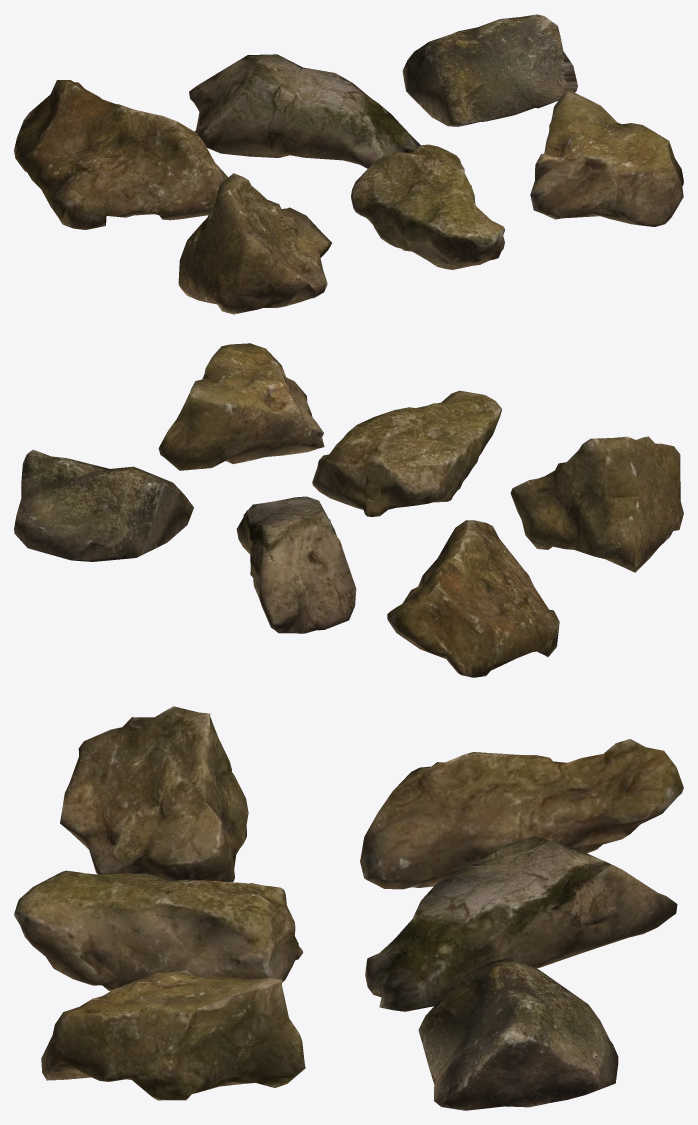
Rendered from rockset1.glb.
The picture shows the model from 3 angles, top to bottom: view 1: azimuth 30°, elevation 25°; view 2: azimuth 150°, elevation 25°; view 3: azimuth 270°, elevation 25°; orthographic projection. The views are drawn at different scales.
Visible parts, largest first — view 1: rock_moss_set_01_rock01, rock_moss_set_01_rock02, rock_moss_set_01_rock06, rock_moss_set_01_rock04, rock_moss_set_01_rock03, rock_moss_set_01_rock05; view 2: rock_moss_set_01_rock04, rock_moss_set_01_rock01, rock_moss_set_01_rock05, rock_moss_set_01_rock03, rock_moss_set_01_rock06, rock_moss_set_01_rock02; view 3: rock_moss_set_01_rock01, rock_moss_set_01_rock02, rock_moss_set_01_rock05, rock_moss_set_01_rock06, rock_moss_set_01_rock04, rock_moss_set_01_rock03.
Part boxes in pixels (x1,y1,x2,y2): rock_moss_set_01_rock01: (14,80,227,229); rock_moss_set_01_rock02: (189,54,420,168); rock_moss_set_01_rock06: (530,90,683,226); rock_moss_set_01_rock04: (178,173,331,314); rock_moss_set_01_rock03: (402,14,577,126); rock_moss_set_01_rock05: (351,144,504,269); rock_moss_set_01_rock04: (510,436,683,572); rock_moss_set_01_rock01: (387,520,559,677); rock_moss_set_01_rock05: (312,390,501,516); rock_moss_set_01_rock03: (14,449,193,561); rock_moss_set_01_rock06: (158,343,324,470); rock_moss_set_01_rock02: (236,496,356,633); rock_moss_set_01_rock01: (360,739,683,889); rock_moss_set_01_rock02: (365,836,677,1011); rock_moss_set_01_rock05: (14,870,302,990); rock_moss_set_01_rock06: (41,969,305,1100); rock_moss_set_01_rock04: (60,706,248,881); rock_moss_set_01_rock03: (418,958,618,1110).
Size of the model in its own units: 8 by 1.76 by 6.94.
1 material, 1 textured.
